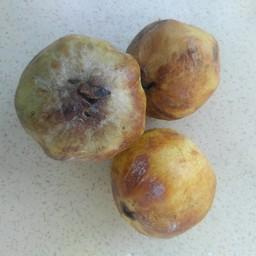Bad_guava: (17, 32, 147, 164), (106, 127, 220, 240), (125, 10, 217, 113)
